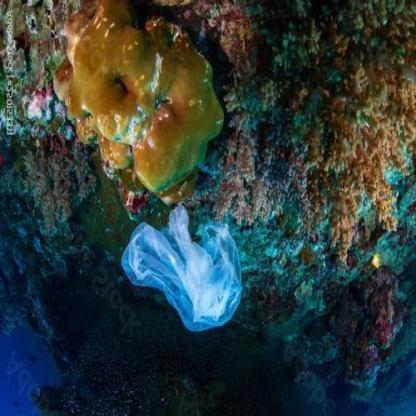pbag: (122, 204, 242, 332)
